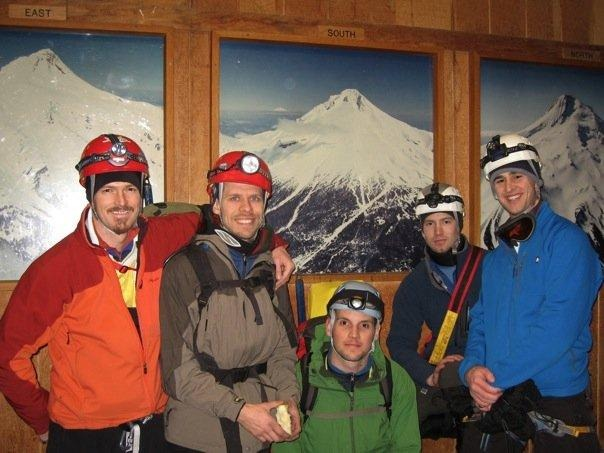helmet: (73, 130, 153, 189), (202, 146, 276, 204), (476, 128, 546, 184), (323, 275, 386, 328), (410, 179, 468, 223)
